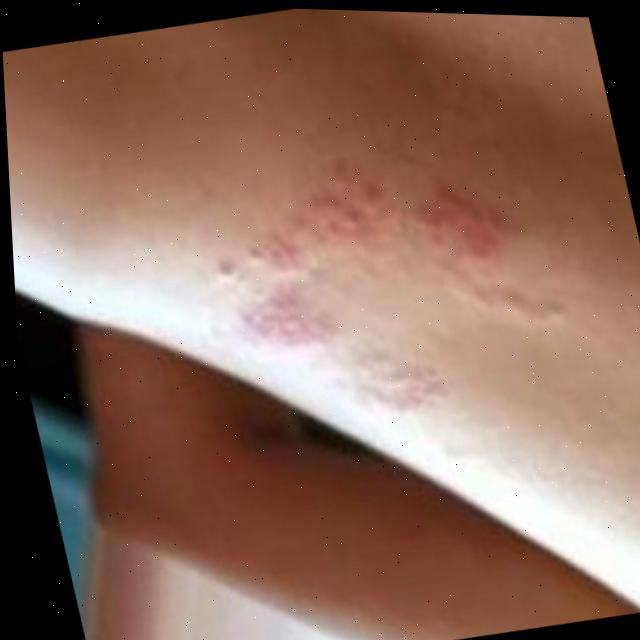Shingles: (224, 178, 539, 387)
